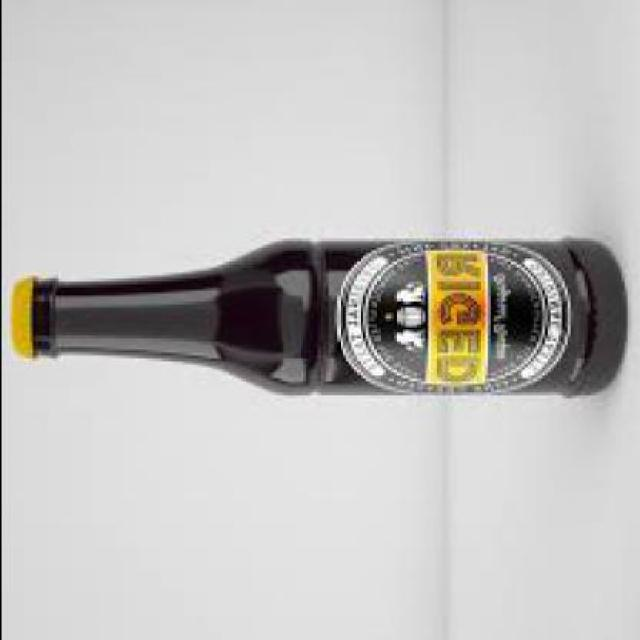GLASS: (28, 236, 622, 396)
METAL: (6, 276, 31, 353)
